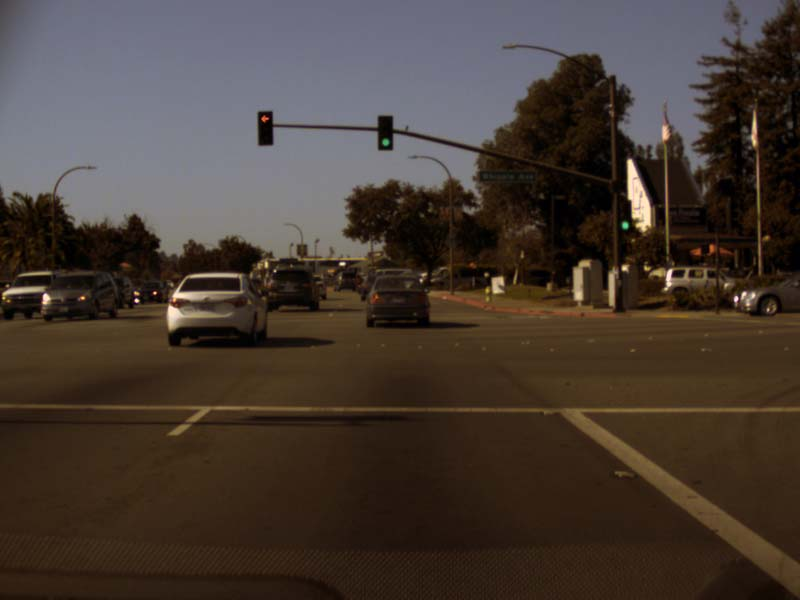Green: (376, 114, 393, 151), (620, 201, 630, 232)
Red: (257, 110, 273, 146)
